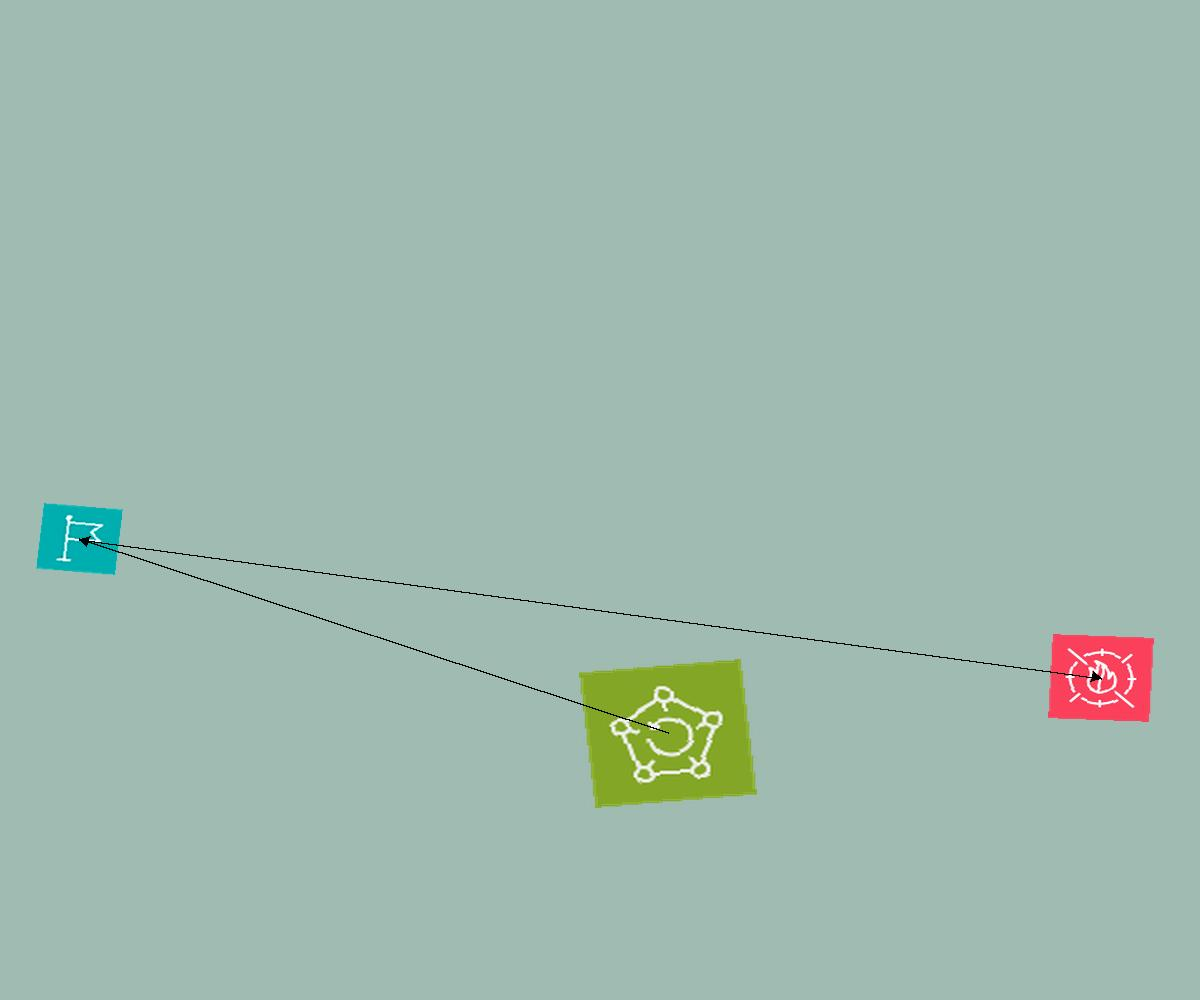AWS-Backup: (579, 659, 757, 808)
AWS-Region: (36, 503, 123, 575)
AWS-WAF: (1048, 634, 1154, 722)
